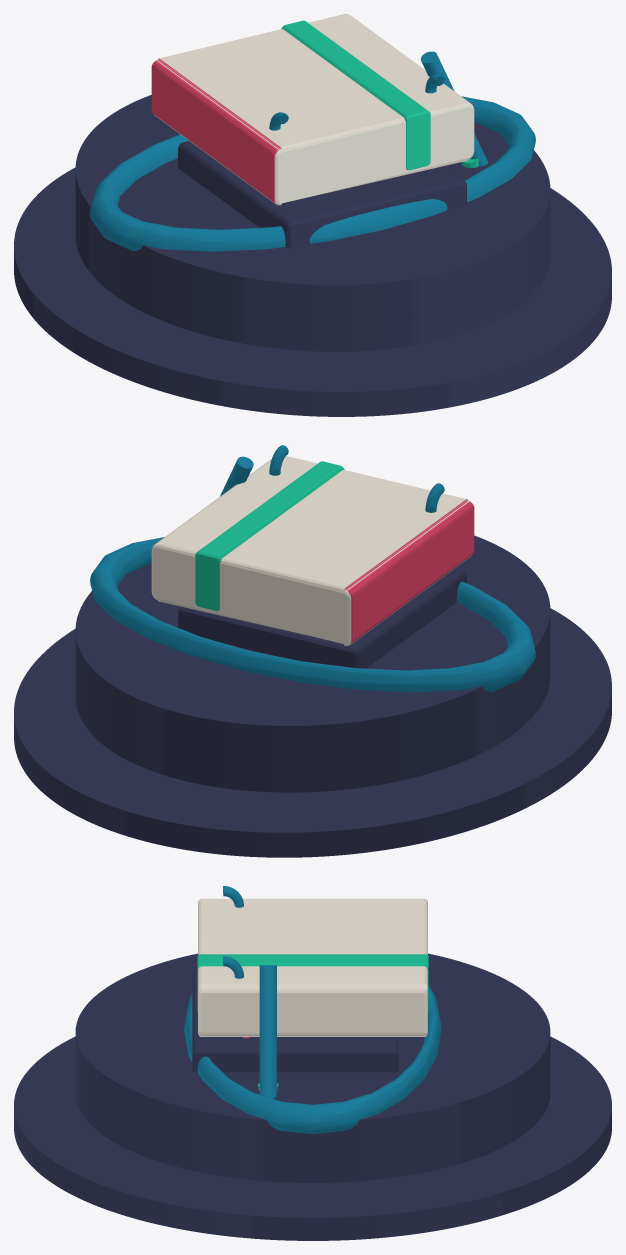
Rendered from 1073_古文观止_《史记》.glb.
3 renders of one model, top to bottom at view 1: azimuth 30°, elevation 25°; view 2: azimuth 150°, elevation 25°; view 3: azimuth 270°, elevation 25°, orthographic. The views are drawn at different scales.
Parts seen in each view (by area): view 1: card_1073; view 2: card_1073; view 3: card_1073.
Boxes of the visible parts, box(x1,y1,x2,y2) form: card_1073: box(14, 14, 611, 416); card_1073: box(14, 445, 611, 857); card_1073: box(14, 886, 611, 1240).
Size of the model in its own units: 2.34 by 1 by 2.62.
